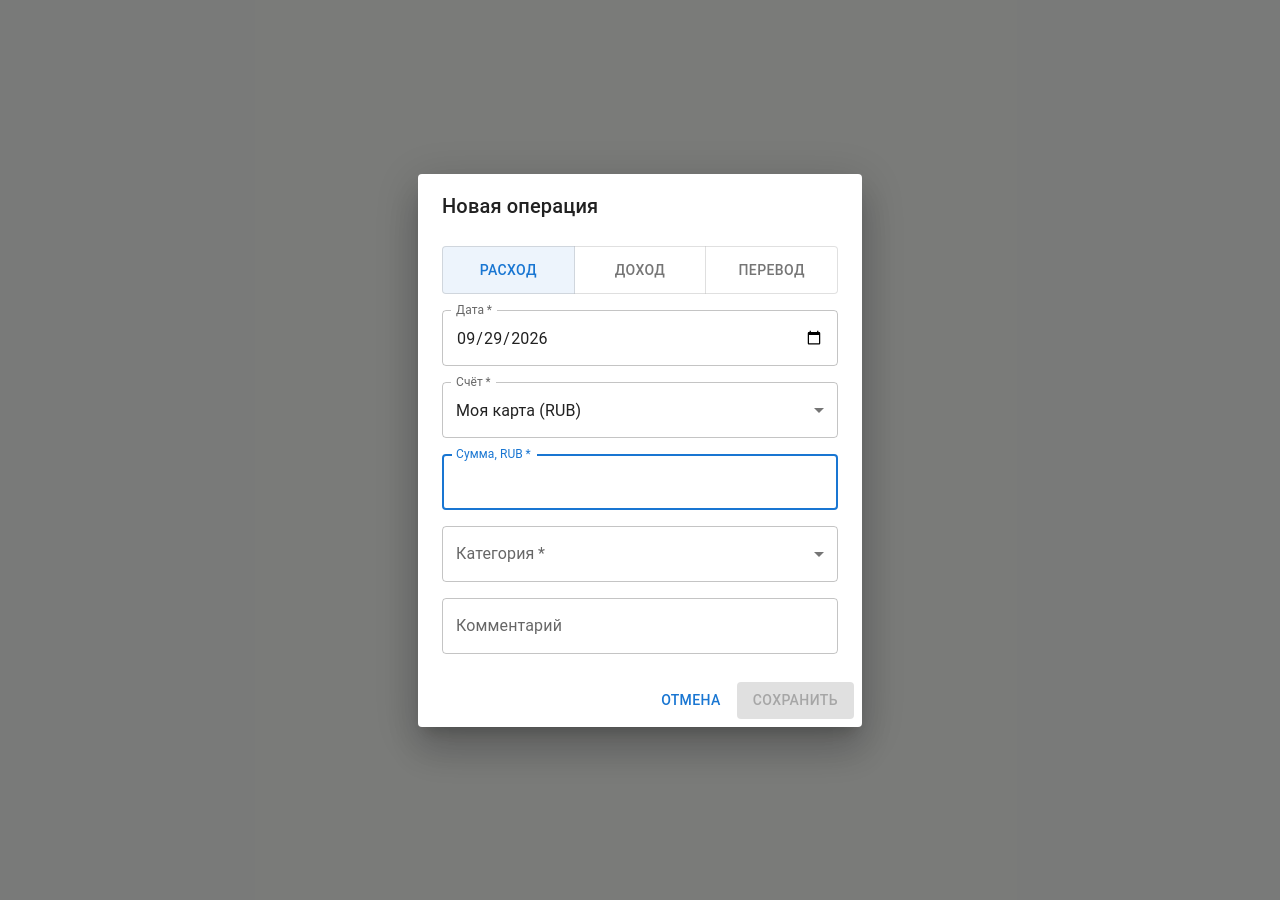
TransactionDialog › не предлагает чужие личные счета
Click the dropdown named "Счёт" at point(519, 410), box [456,400,581,420]
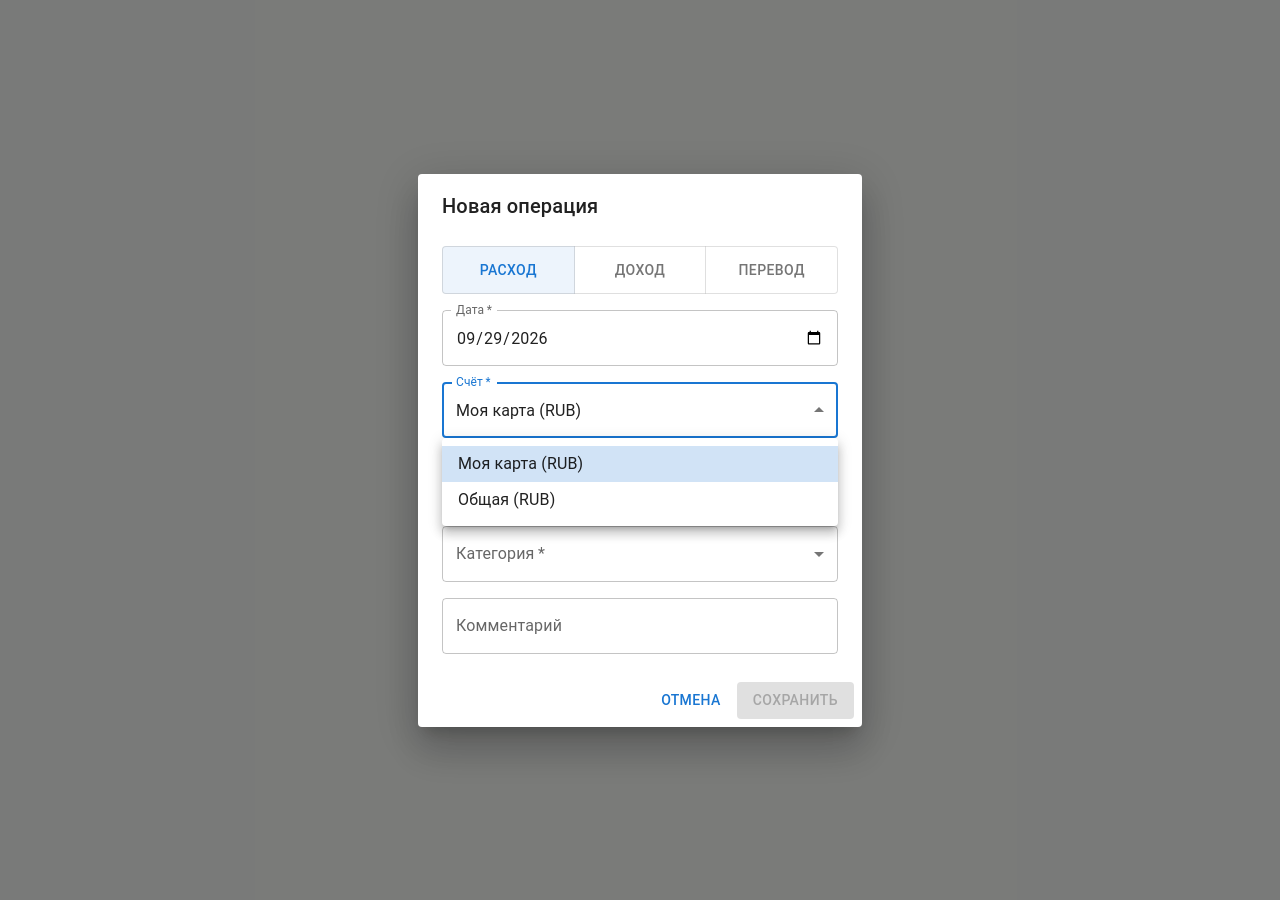
expect the option "Моя карта (RUB)" is shown: met, box [442,446,838,482]
expect the option "Общая (RUB)" is shown: met, box [458,490,555,509]
